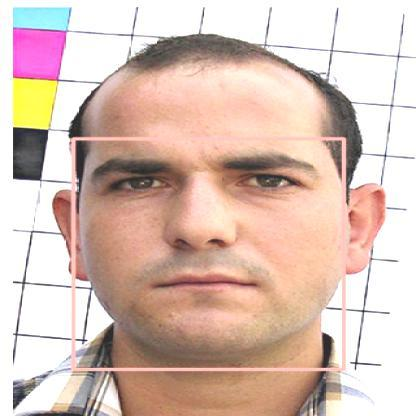without_mask: (73, 138, 343, 369)
